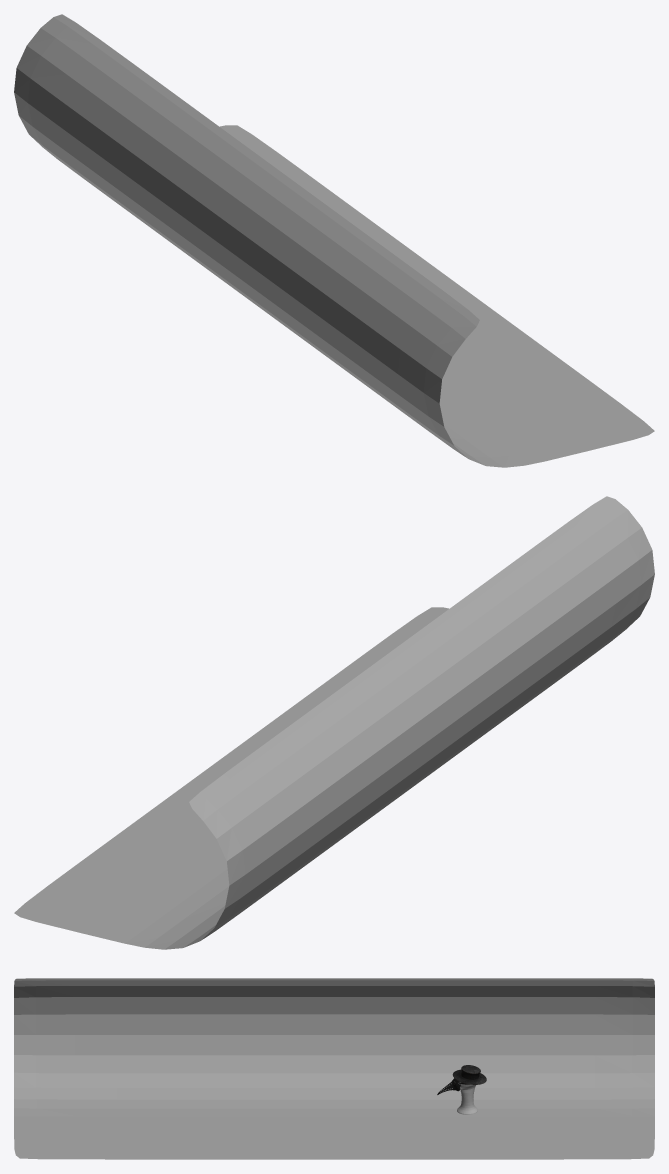
The model's file is DOCRender.obj.
3 views of the same model, one above another, from view 1: azimuth 30°, elevation 25°; view 2: azimuth 150°, elevation 25°; view 3: azimuth 270°, elevation 25° (orthographic). The views are drawn at different scales.
Parts seen in each view (by area): view 1: Plane.001; view 2: Plane.001; view 3: Plane.001, Torus.001, Cylinder.
Boxes of the visible parts, box(x1,y1,x2,y2) form: Plane.001: box(14, 14, 654, 467); Plane.001: box(14, 496, 654, 949); Plane.001: box(14, 978, 654, 1159); Torus.001: box(437, 1065, 486, 1094); Cylinder: box(457, 1084, 477, 1114).
Bounding box in the file's own units: 5.68 × 3.76 × 18.78.
